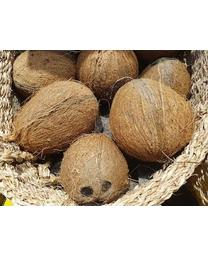coconut: (105, 78, 191, 160), (14, 80, 99, 156), (57, 130, 129, 204), (11, 49, 77, 92), (77, 49, 140, 91), (140, 58, 190, 102)
